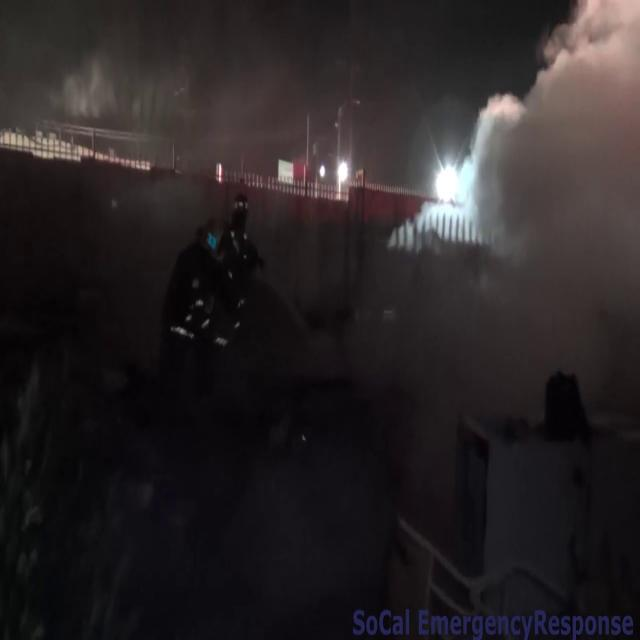Smoke: (448, 0, 640, 379)
